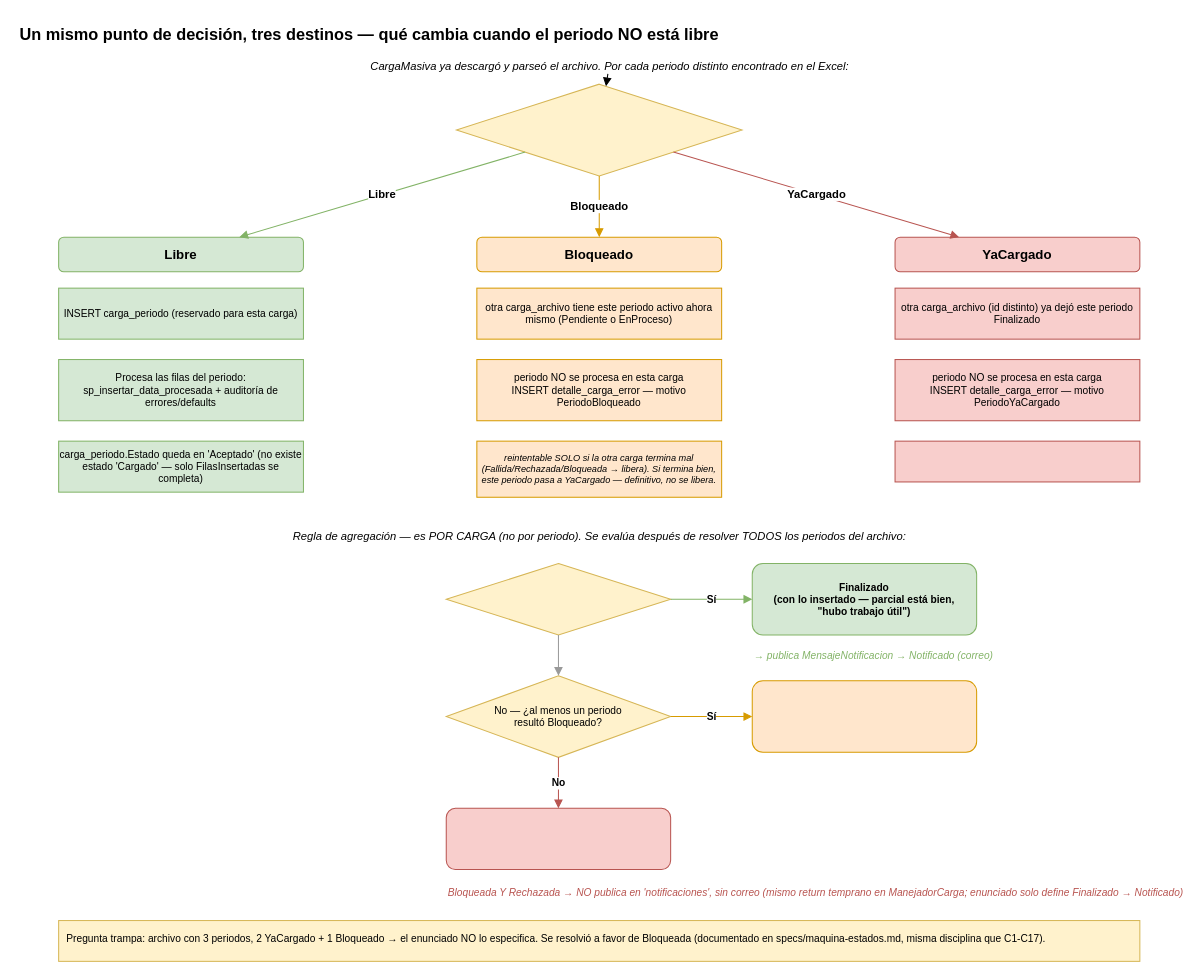
The diagram is 1201 pixels wide and 979 high, and some of its shapes have lost their labels. The shapes that lost their labels are listed below. From the top down, each one's centre as x and y in pixels, then its label:
(x=598, y=129): sp_resolver_periodo(idCarga, periodo) (advisory lock + transacción)
(x=1017, y=461): definitivo — el dato ya existe, reintentar no cambia nada
(x=558, y=599): ¿Al menos un periodo resultó Libre?
(x=864, y=716): Bloqueada (gana sobre Rechazada si hay mezcla — lectura más accionable)
(x=558, y=838): Rechazada (no — todos los periodos eran YaCargado)
